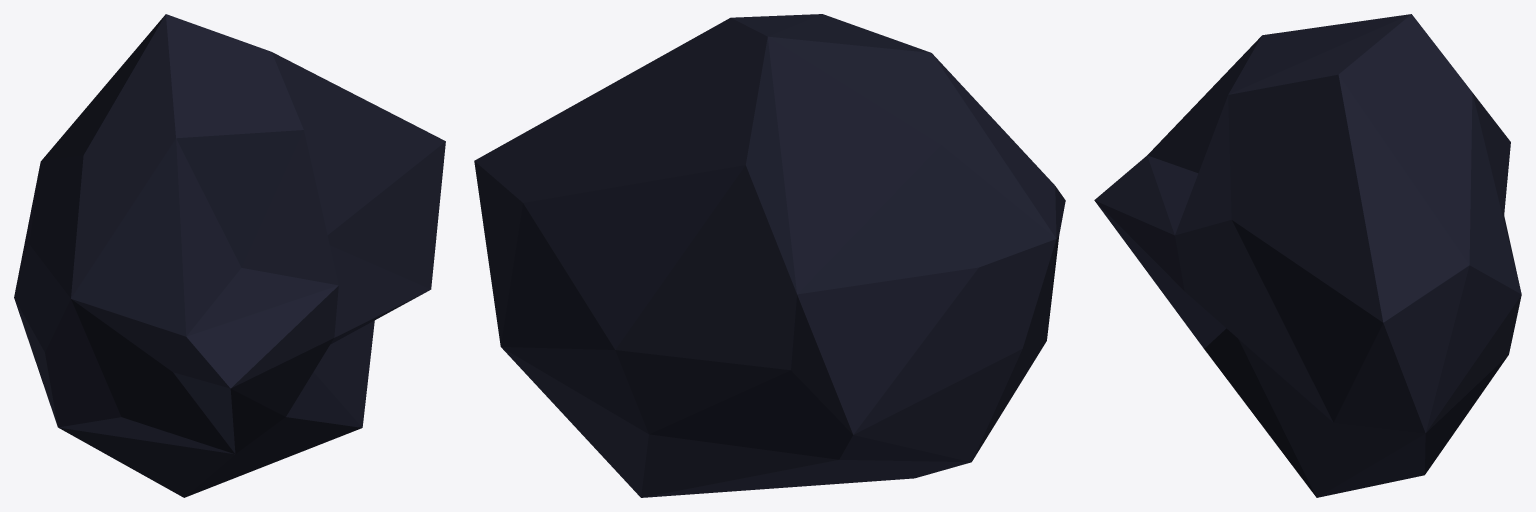
The model's file is CaveRock04.fbx.
3 views of the same model, side by side, from view 1: azimuth 30°, elevation 25°; view 2: azimuth 150°, elevation 25°; view 3: azimuth 270°, elevation 25° (orthographic). The views are drawn at different scales.
Parts seen in each view (by area): view 1: Gem.002; view 2: Gem.002; view 3: Gem.002.
Boxes of the visible parts, box(x1,y1,x2,y2) form: Gem.002: box(14, 14, 445, 497); Gem.002: box(474, 14, 1065, 497); Gem.002: box(1094, 14, 1521, 497).
Bounding box in the file's own units: 312 × 285 × 266.
